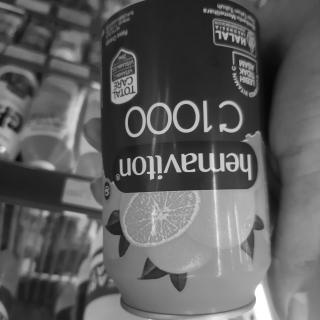alumunium_can: (92, 0, 280, 320)
